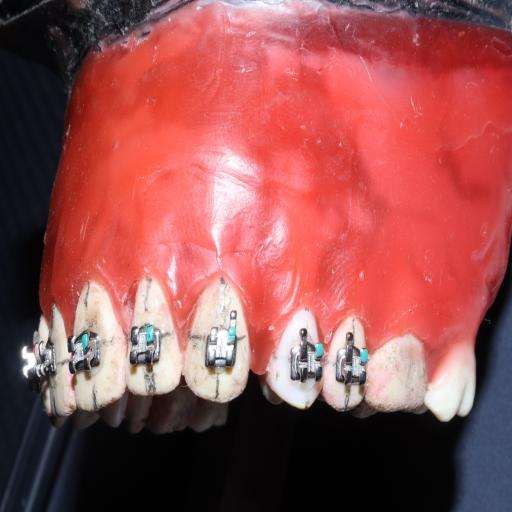incorrect_brace: (126, 274, 183, 400), (202, 321, 240, 370), (129, 322, 164, 372)
